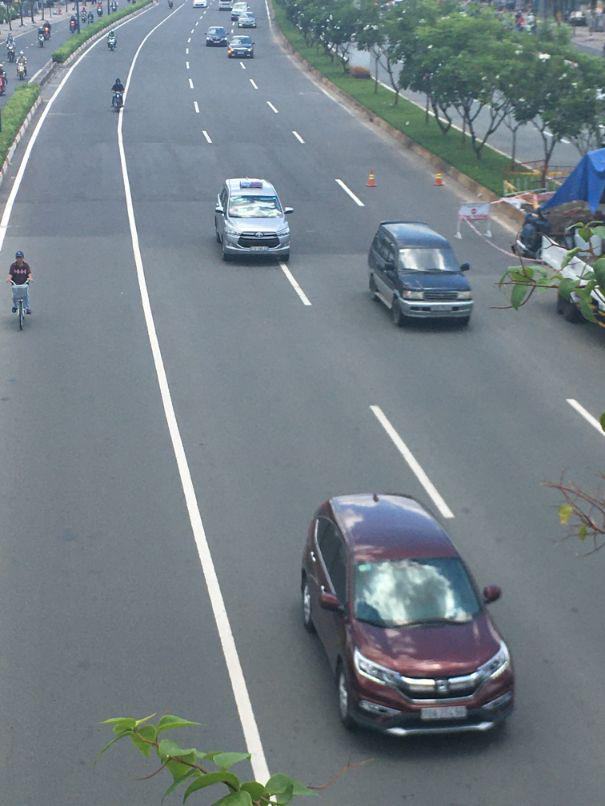car: (299, 497, 518, 738), (367, 221, 475, 330), (213, 176, 292, 261), (226, 35, 255, 58), (206, 27, 229, 46)
motorbike: (12, 285, 31, 330)
